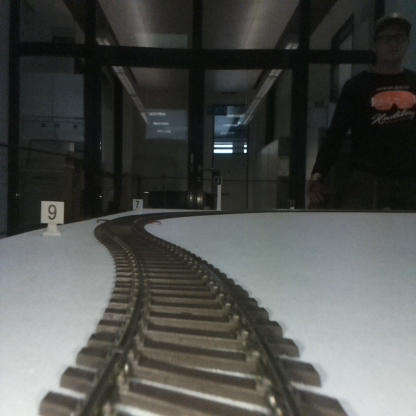white-stop-7: (132, 197, 143, 213)
white-stop-9: (41, 201, 63, 236)
